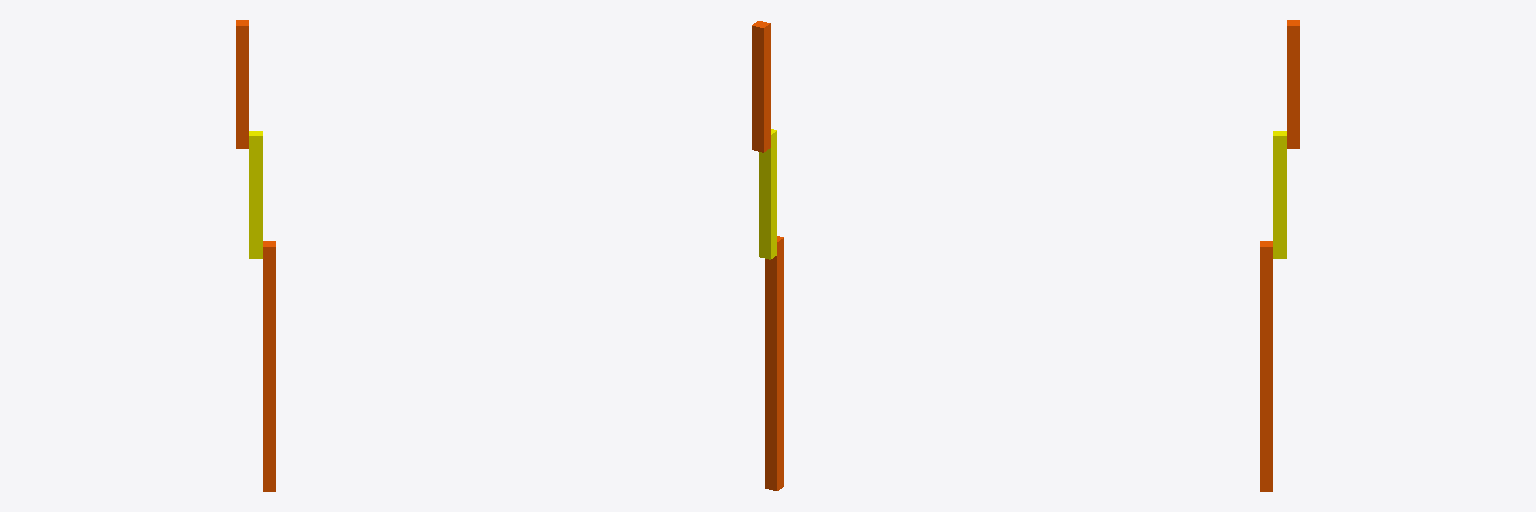
robot.urdf — simple_rrbot:
<?xml version="1.0" ?>
<!-- =================================================================================== -->
<!-- |    This document was autogenerated by xacro from rrbot.urdf.xacro               | -->
<!-- |    EDITING THIS FILE BY HAND IS NOT RECOMMENDED                                 | -->
<!-- =================================================================================== -->
<!-- Revolute-Revolute Manipulator -->
<!--
Copied and modified from ROS1 example -
https://github.com/ros-simulation/gazebo_ros_demos/blob/kinetic-devel/rrbot_description/urdf/rrbot.xacro
-->
<robot name="simple_rrbot">
  <material name="black">
    <color rgba="0.0 0.0 0.0 1.0"/>
  </material>
  <material name="blue">
    <color rgba="0.0 0.0 0.8 1.0"/>
  </material>
  <material name="green">
    <color rgba="0.0 0.8 0.0 1.0"/>
  </material>
  <material name="grey">
    <color rgba="0.2 0.2 0.2 1.0"/>
  </material>
  <material name="orange">
    <color rgba="1.0 0.4235294117647059 0.0392156862745098 1.0"/>
  </material>
  <material name="brown">
    <color rgba="0.8705882352941177 0.8117647058823529 0.7647058823529411 1.0"/>
  </material>
  <material name="red">
    <color rgba="0.8 0.0 0.0 1.0"/>
  </material>
  <material name="yellow">
    <color rgba="1.0 1.0 0.0 1.0"/>
  </material>
  <material name="white">
    <color rgba="1.0 1.0 1.0 1.0"/>
  </material>
  <!-- Used for fixing robot -->
  <link name="world"/>
  <!-- Space btw top of beam and the each joint -->
  <joint name="base_joint" type="fixed">
    <origin rpy="0 0 0" xyz="0 0 0"/>
    <parent link="world"/>
    <child link="base_link"/>
  </joint>
  <!-- Base Link -->
  <link name="base_link">
    <collision>
      <origin rpy="0 0 0" xyz="0 0 1.0"/>
      <geometry>
        <box size="0.1 0.1 2"/>
      </geometry>
    </collision>
    <visual>
      <origin rpy="0 0 0" xyz="0 0 1.0"/>
      <geometry>
        <box size="0.1 0.1 2"/>
      </geometry>
      <material name="orange"/>
    </visual>
    <inertial>
      <origin rpy="0 0 0" xyz="0 0 1.0"/>
      <mass value="1"/>
      <inertia ixx="0.3341666666666666" ixy="0.0" ixz="0.0" iyy="0.3341666666666666" iyz="0.0" izz="0.001666666666666667"/>
    </inertial>
  </link>
  <joint name="joint1" type="continuous">
    <parent link="base_link"/>
    <child link="link1"/>
    <origin rpy="0 0 0" xyz="0 0.1 1.95"/>
    <axis xyz="0 1 0"/>
    <dynamics damping="0.7"/>
    <limit effort="100" velocity="1.0"/>
  </joint>
  <!-- Middle Link -->
  <link name="link1">
    <collision>
      <origin rpy="0 0 0" xyz="0 0 0.45"/>
      <geometry>
        <box size="0.1 0.1 1"/>
      </geometry>
    </collision>
    <visual>
      <origin rpy="0 0 0" xyz="0 0 0.45"/>
      <geometry>
        <box size="0.1 0.1 1"/>
      </geometry>
      <material name="yellow"/>
    </visual>
    <inertial>
      <origin rpy="0 0 0" xyz="0 0 0.45"/>
      <mass value="1"/>
      <inertia ixx="0.08416666666666667" ixy="0.0" ixz="0.0" iyy="0.08416666666666667" iyz="0.0" izz="0.001666666666666667"/>
    </inertial>
  </link>
  <joint name="joint2" type="continuous">
    <parent link="link1"/>
    <child link="link2"/>
    <origin rpy="0 0 0" xyz="0 0.1 0.9"/>
    <axis xyz="0 1 0"/>
    <dynamics damping="0.7"/>
    <limit effort="100" velocity="1.0"/>
  </joint>
  <!-- Top Link -->
  <link name="link2">
    <collision>
      <origin rpy="0 0 0" xyz="0 0 0.45"/>
      <geometry>
        <box size="0.1 0.1 1"/>
      </geometry>
    </collision>
    <visual>
      <origin rpy="0 0 0" xyz="0 0 0.45"/>
      <geometry>
        <box size="0.1 0.1 1"/>
      </geometry>
      <material name="orange"/>
    </visual>
    <inertial>
      <origin rpy="0 0 0" xyz="0 0 0.45"/>
      <mass value="1"/>
      <inertia ixx="0.08416666666666667" ixy="0.0" ixz="0.0" iyy="0.08416666666666667" iyz="0.0" izz="0.001666666666666667"/>
    </inertial>
  </link>
  <joint name="tool_joint" type="fixed">
    <origin rpy="0 0 0" xyz="0 0 1"/>
    <parent link="link2"/>
    <child link="tool_link"/>
  </joint>
  <!-- Tool Link -->
  <link name="tool_link">
  </link>
</robot>

--- Facts derived from the render (not from the file) ---
The picture shows the robot from 3 angles, left to right: view 1: azimuth 90°, elevation 25°; view 2: azimuth 150°, elevation 25°; view 3: azimuth 270°, elevation 25°; orthographic projection.
Model simple_rrbot with 5 links and 4 joints (2 continuous, 2 fixed), rooted at world, posed all joints at 0.
Visible links, largest first — view 1: base_link, link1, link2; view 2: base_link, link2, link1; view 3: base_link, link1, link2.
Boxes of the visible links, x1,y1,x2,y2 form: base_link: [263, 241, 275, 491]; link1: [249, 131, 262, 258]; link2: [236, 20, 248, 148]; base_link: [765, 236, 783, 490]; link2: [752, 21, 770, 152]; link1: [759, 129, 776, 259]; base_link: [1260, 241, 1272, 491]; link1: [1273, 131, 1286, 258]; link2: [1287, 20, 1299, 148].
Bounding box of the posed robot: 0.1 × 0.3 × 3.8 m (x, y, z).
Geometry: primitives only (box / cylinder / sphere), no mesh files.
